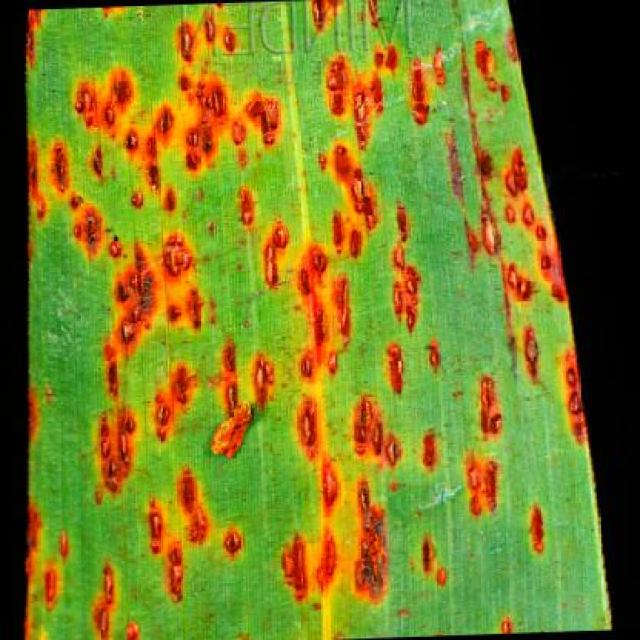Corn_Rust: (40, 83, 520, 623)
